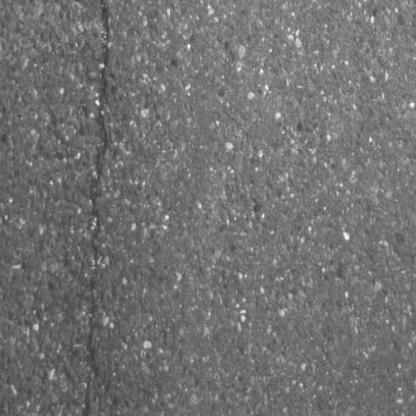Cracks: (80, 0, 118, 416)
